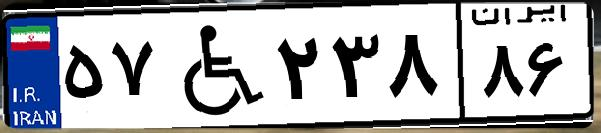2: (270, 28, 330, 110)
3: (330, 28, 385, 110)
5: (57, 26, 110, 100)
6: (525, 38, 570, 115)
7: (110, 28, 158, 98)
8: (385, 28, 445, 110), (475, 38, 525, 113)
ژ (معلولین و جانبازان): (158, 12, 270, 120)
